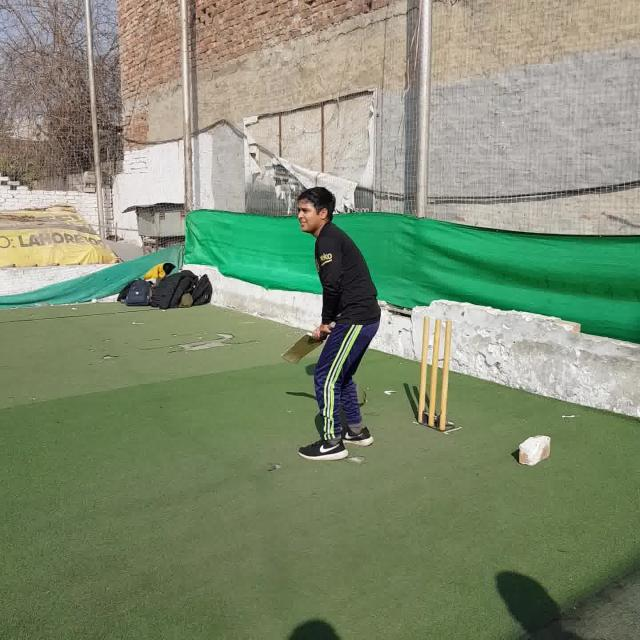bat: (282, 322, 336, 363)
